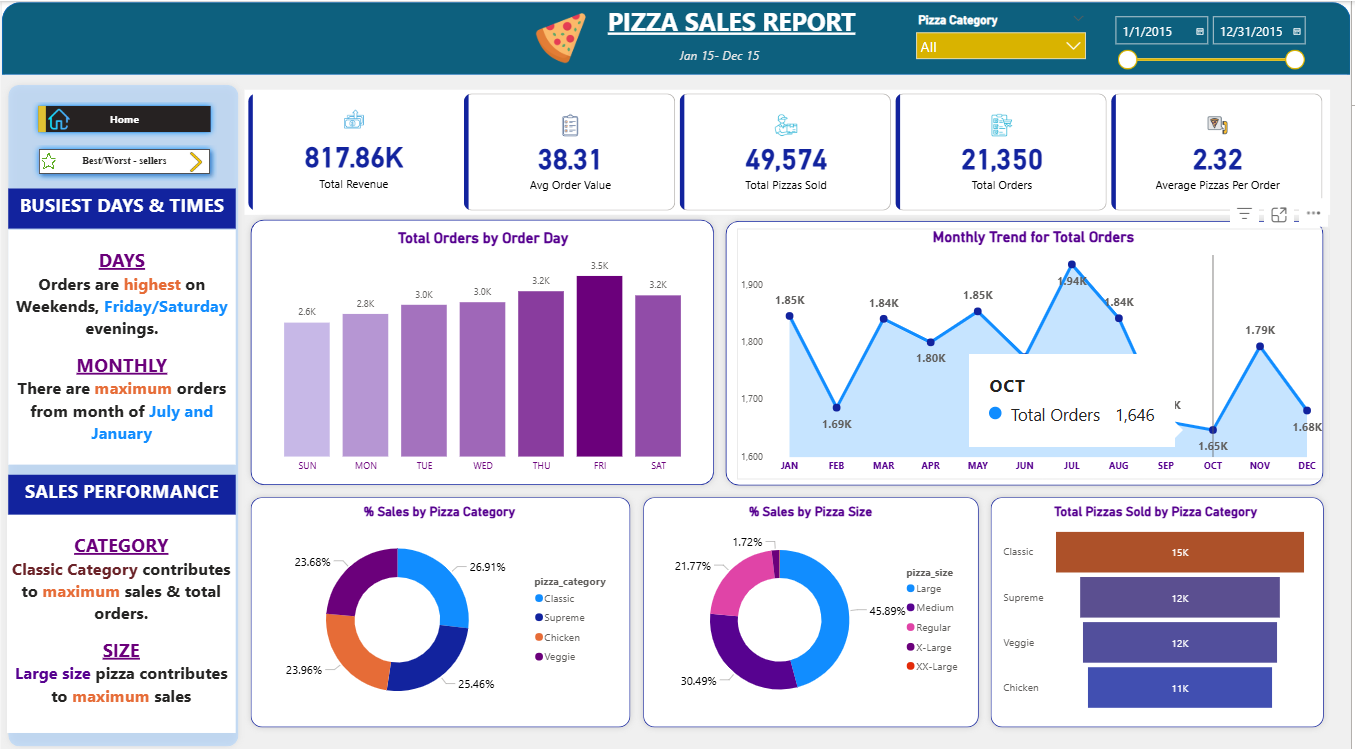

What the dashboard file says about the page in this screenshot:
{"tool":"powerbi","page":{"name":"Home","canvas":[1750,975],"ordinal":0},"visuals":[{"type":"cardVisual","fields":{"Data":["KeyMeasures.Total Revenue","KeyMeasures.Avg Order Value","KeyMeasures.Total Pizzas Sold","KeyMeasures.Total Orders","KeyMeasures.Average Pizzas Per Order"]},"box":[314.8,114.5,1408.5,162.2],"z":0},{"type":"shape","box":[0,2,1750,94],"z":1000},{"type":"textbox","box":[759.8,0,375.2,56.3],"z":2000},{"type":"textbox","box":[875,53.3,126.7,41.7],"z":3000},{"type":"image","box":[675.4,9.4,101.3,76.9],"z":4000},{"type":"shape","box":[315.2,275.8,617.2,360.2],"z":5000},{"type":"columnChart","fields":{"Y":["KeyMeasures.Total Orders"],"Category":["pizza_sales.Order Day"]},"box":[330.2,296.4,587.2,324.6],"z":6000},{"type":"shape","box":[931.6,276.6,791.7,359.3],"z":7000},{"type":"areaChart","title":"Monthly Trend for Total Orders","fields":{"Category":["pizza_sales.Order Month"],"Y":["KeyMeasures.Total Orders"]},"box":[953.9,295.7,769.4,325.9],"z":8000},{"type":"shape","box":[1275,635.9,448.3,314.8],"z":9000},{"type":"shape","box":[823.5,635.9,451.5,314.8],"z":10000},{"type":"shape","box":[314.8,635.9,508.7,314.8],"z":11000},{"type":"donutChart","title":"% Sales by Pizza Category","fields":{"Y":["KeyMeasures.Total Revenue"],"Category":["pizza_sales.pizza_category"]},"box":[330.7,651.8,473.7,283],"z":12000},{"type":"donutChart","title":"% Sales by Pizza Size","fields":{"Y":["KeyMeasures.Total Revenue"],"Category":["pizza_sales.pizza_size"]},"box":[841,651.8,418.1,283],"z":13000},{"type":"funnel","title":"Total Pizzas Sold by Pizza Category","fields":{"Y":["KeyMeasures.Total Pizzas Sold"],"Category":["pizza_sales.pizza_category"]},"box":[1294.1,651.8,405.4,283],"z":14000},{"type":"shape","box":[0,100,315,875],"z":15000},{"type":"textbox","box":[8.3,243.3,295,51.7],"z":16000},{"type":"textbox","box":[8.3,296.7,295,305],"z":17000},{"type":"textbox","box":[8.3,615,295,51.7],"z":18000},{"type":"textbox","box":[6.7,666.7,296.7,283.3],"z":19000},{"type":"slicer","fields":{"Values":["pizza_sales.pizza_category"]},"box":[1176.7,3.3,240,93.3],"z":20000},{"type":"slicer","fields":{"Values":["pizza_sales.order_date"]},"box":[1431.7,1.7,266.7,93.3],"z":21000},{"type":"pageNavigator","box":[39.4,127.6,240.1,50.7],"z":22000},{"type":"pageNavigator","box":[39.4,183.9,240.1,50.7],"z":23000},{"type":"image","box":[233.3,191.1,36.7,35.6],"z":23001},{"type":"image","box":[55.6,132.2,37.8,41.1],"z":23002},{"type":"image","box":[46.7,191.1,27.8,32.2],"z":23003}]}

Visuals, with their boxes in screenshot pixels (x1, y1, x2, y2), scaled from the page's 1750x975 canvas onto the 1355x749 screenshot:
cardVisual - KeyMeasures.Total Revenue x KeyMeasures.Avg Order Value: <box>244,88,1334,213</box>
shape: <box>0,2,1354,74</box>
textbox: <box>588,0,879,43</box>
textbox: <box>678,41,776,73</box>
image: <box>523,7,601,66</box>
shape: <box>244,212,722,489</box>
columnChart - KeyMeasures.Total Orders x pizza_sales.Order Day: <box>256,228,710,477</box>
shape: <box>721,212,1334,489</box>
"Monthly Trend for Total Orders" areaChart: <box>739,227,1334,478</box>
shape: <box>987,489,1334,730</box>
shape: <box>638,489,987,730</box>
shape: <box>244,489,638,730</box>
"% Sales by Pizza Category" donutChart: <box>256,501,623,718</box>
"% Sales by Pizza Size" donutChart: <box>651,501,975,718</box>
"Total Pizzas Sold by Pizza Category" funnel: <box>1002,501,1316,718</box>
shape: <box>0,77,244,748</box>
textbox: <box>6,187,235,227</box>
textbox: <box>6,228,235,462</box>
textbox: <box>6,472,235,512</box>
textbox: <box>5,512,235,730</box>
slicer - pizza_sales.pizza_category: <box>911,3,1097,74</box>
slicer - pizza_sales.order_date: <box>1109,1,1315,73</box>
pageNavigator: <box>31,98,216,137</box>
pageNavigator: <box>31,141,216,180</box>
image: <box>181,147,209,174</box>
image: <box>43,102,72,133</box>
image: <box>36,147,58,172</box>
